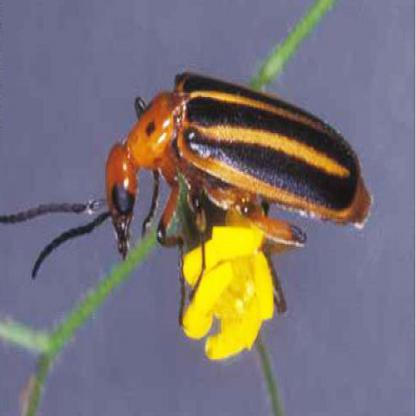blister beetle: (5, 69, 376, 279)
